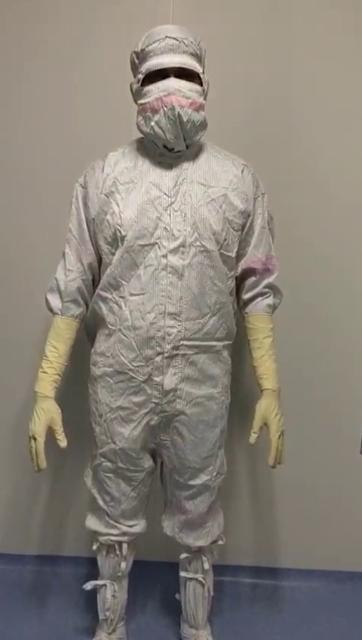gloves_fitted_securely: (232, 290, 304, 474), (21, 296, 85, 478)
headgear_secured: (126, 21, 220, 158)
zip_secured: (147, 153, 193, 430)
